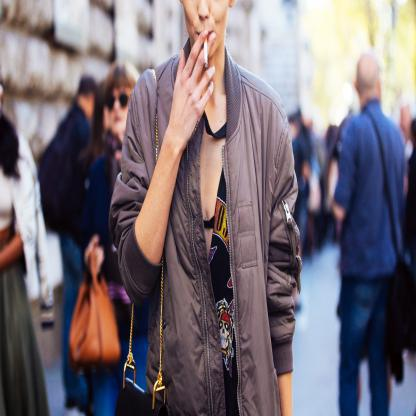cigarette: (203, 36, 209, 70)
person: (115, 1, 292, 414), (334, 49, 397, 415)
